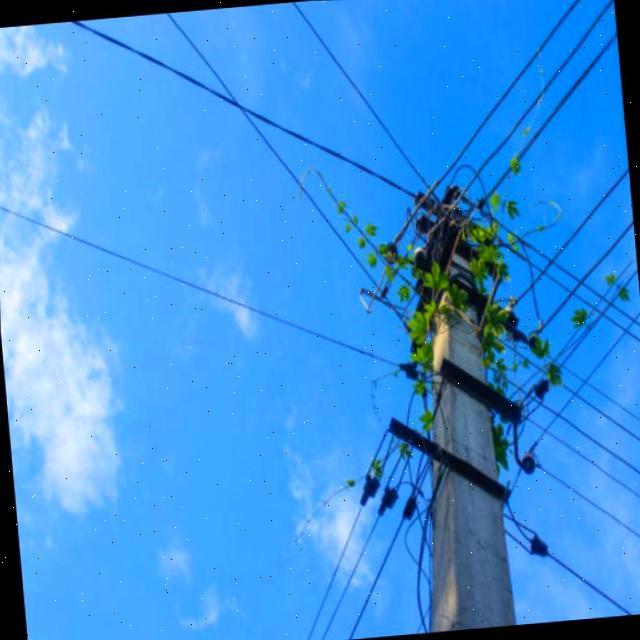critical vegetation: (381, 209, 524, 402)
